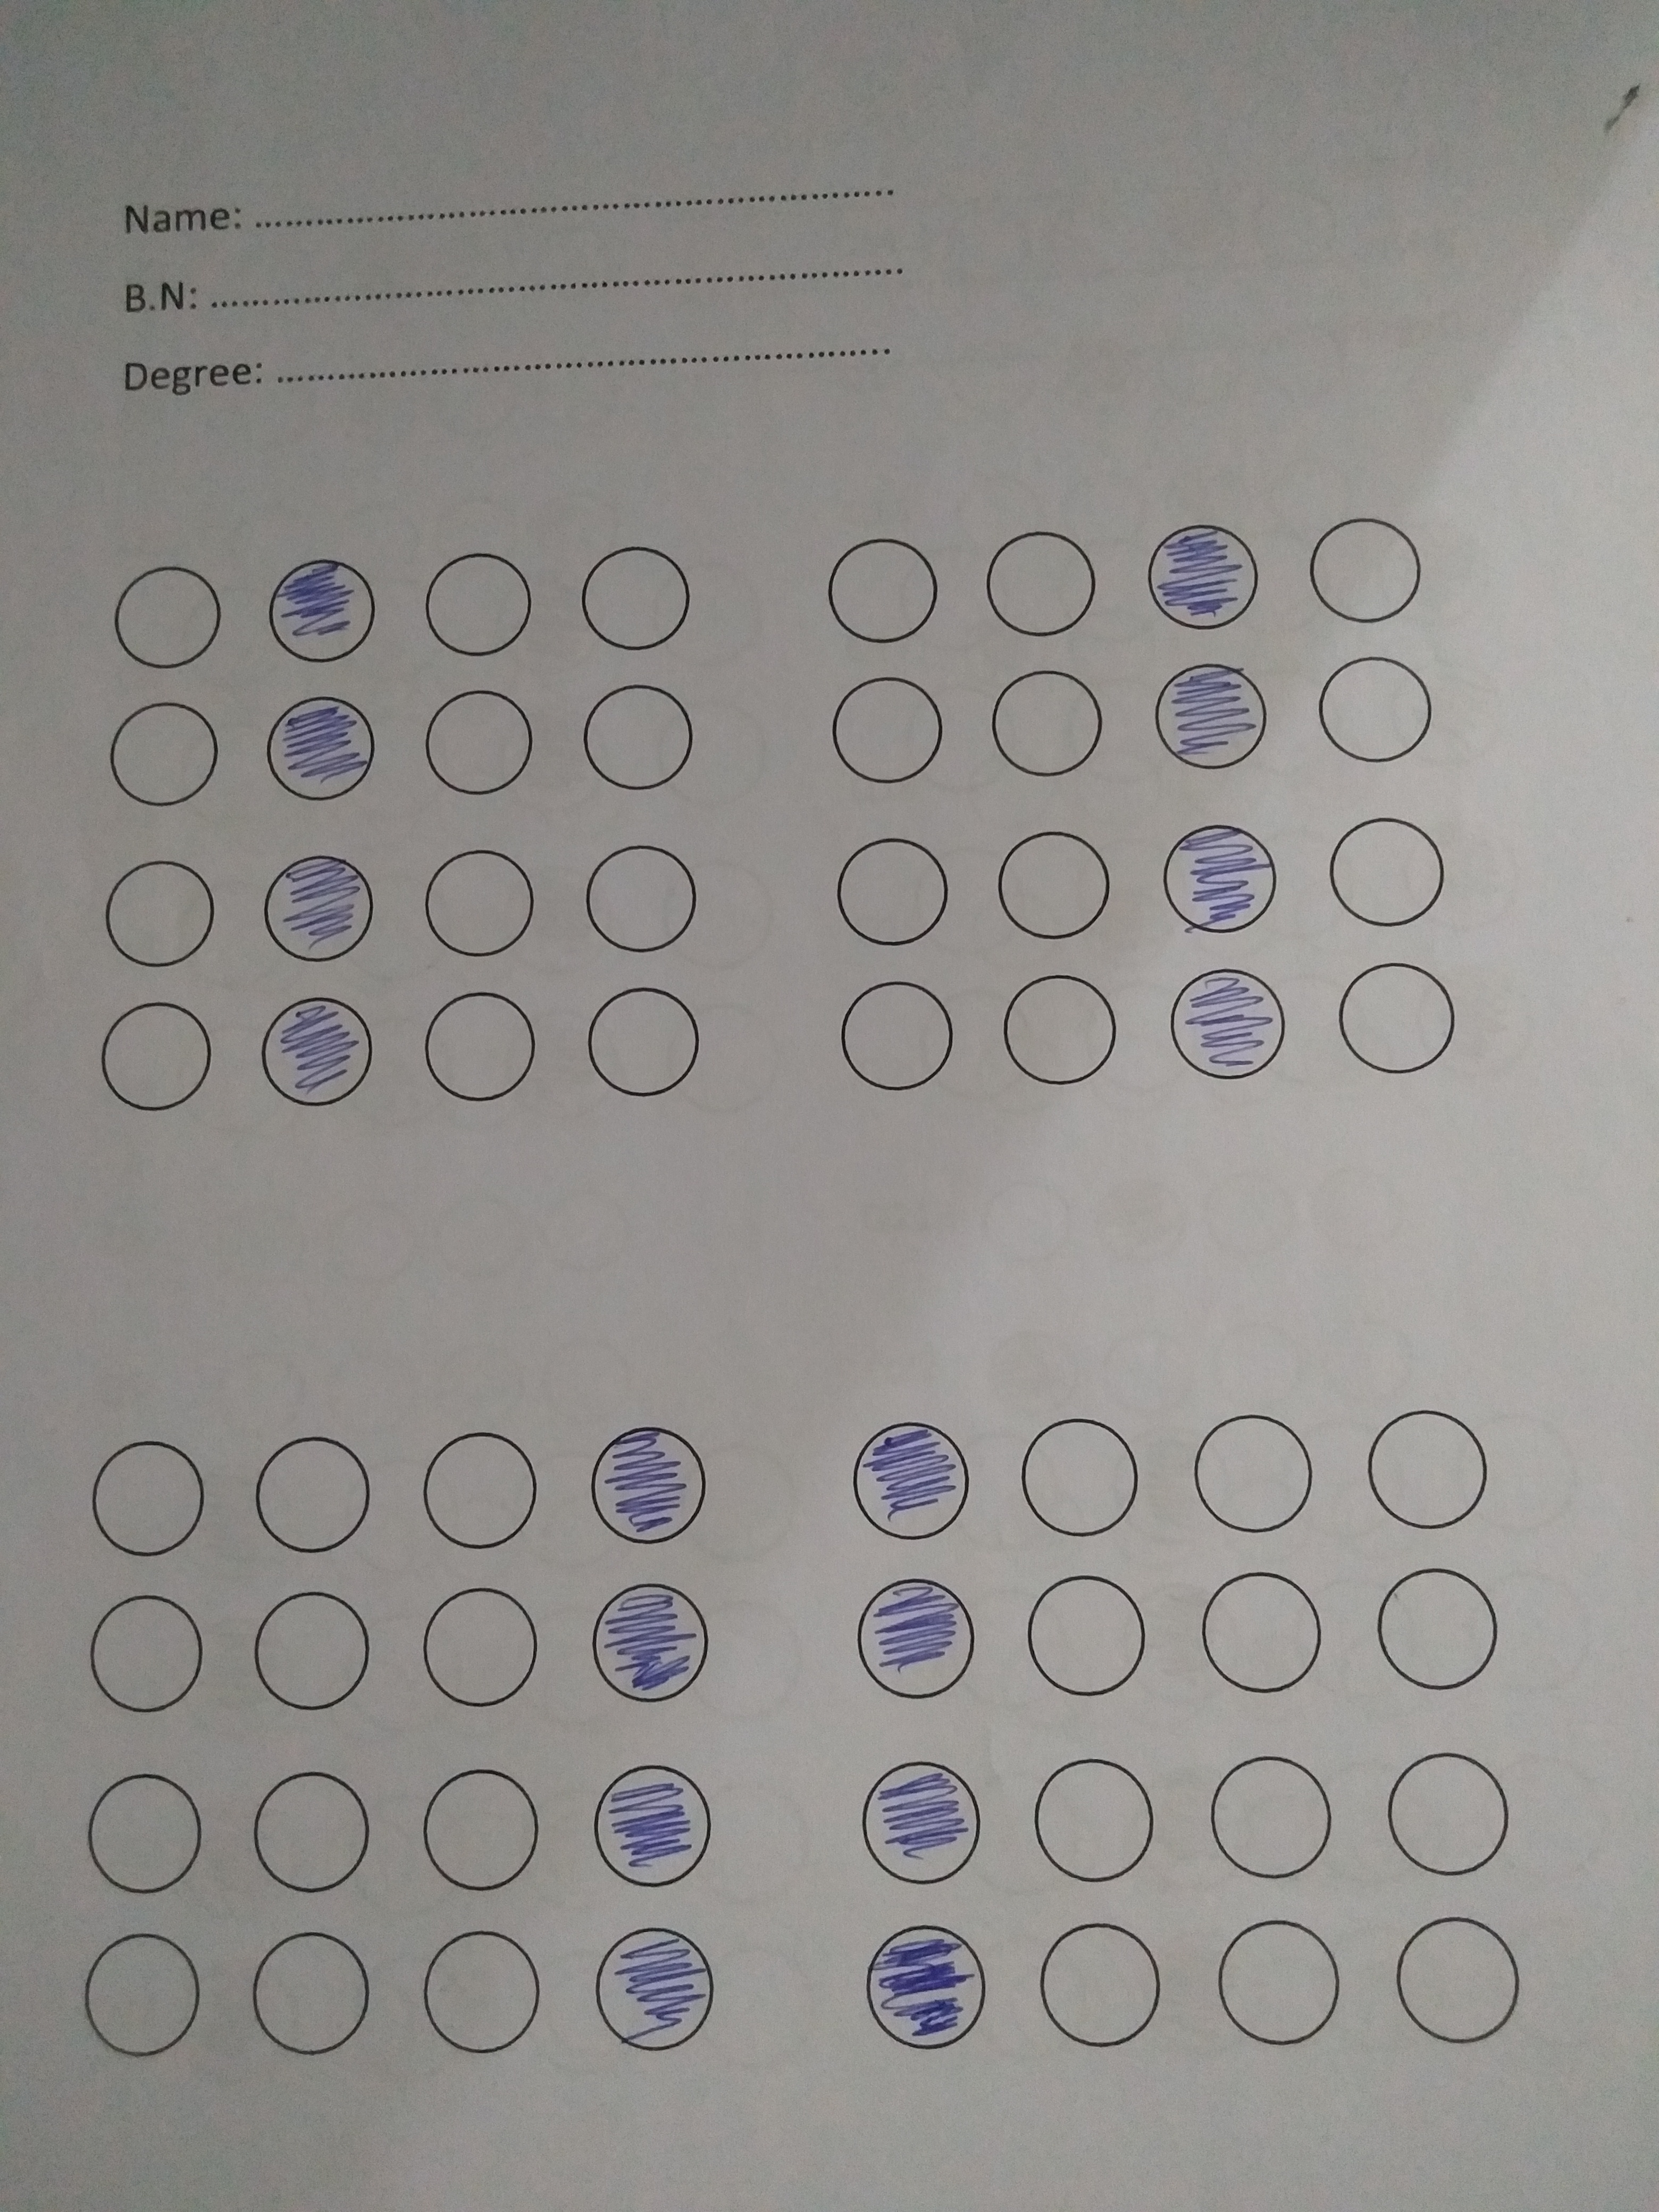not-c: (1007, 1413, 1140, 1540), (1398, 1918, 1530, 2045), (244, 1433, 378, 1559), (75, 1771, 209, 1897), (71, 1932, 206, 2057), (249, 1590, 383, 1716), (244, 1771, 378, 1897), (411, 1587, 545, 1712), (413, 1768, 547, 1893), (410, 1930, 544, 2055), (1201, 1752, 1335, 1878), (1380, 1749, 1514, 1874), (1035, 1921, 1169, 2047), (1185, 1414, 1317, 1540), (1366, 1406, 1499, 1531), (1370, 1568, 1502, 1693), (1201, 1573, 1333, 1698), (1014, 1571, 1147, 1696), (420, 1430, 552, 1555), (82, 1439, 214, 1564), (77, 1588, 209, 1714), (246, 1932, 378, 2057), (1026, 1761, 1159, 1886), (1209, 1921, 1342, 2047), (565, 543, 704, 658), (1316, 651, 1455, 766), (94, 691, 232, 806), (566, 845, 704, 960), (978, 665, 1115, 780), (992, 826, 1129, 941), (1330, 960, 1467, 1075), (1290, 517, 1429, 631), (823, 676, 962, 789), (826, 981, 965, 1094), (983, 970, 1122, 1083), (568, 681, 706, 794), (401, 843, 538, 956), (410, 683, 547, 796), (410, 547, 547, 660), (85, 1000, 223, 1113), (87, 853, 225, 967), (92, 557, 230, 671), (563, 988, 701, 1101), (406, 995, 544, 1108), (816, 538, 953, 651), (964, 531, 1101, 644), (824, 834, 962, 948), (1317, 815, 1455, 928)
taken-c: (586, 1925, 725, 2052), (584, 1421, 718, 1547), (586, 1581, 720, 1707), (587, 1764, 721, 1890), (861, 1923, 995, 2048), (247, 991, 380, 1116), (856, 1759, 988, 1885), (852, 1575, 985, 1700), (849, 1420, 981, 1545), (1164, 963, 1295, 1082), (1154, 822, 1283, 935), (1147, 660, 1270, 777), (263, 691, 383, 808), (1145, 519, 1263, 636), (261, 850, 378, 967), (263, 550, 380, 665)
